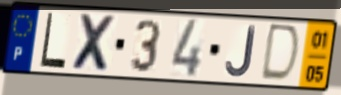3: (129, 19, 162, 74)
4: (170, 17, 204, 79)
D: (258, 22, 303, 86)
J: (224, 24, 257, 79)
L: (38, 11, 68, 71)
X: (69, 11, 119, 75)
